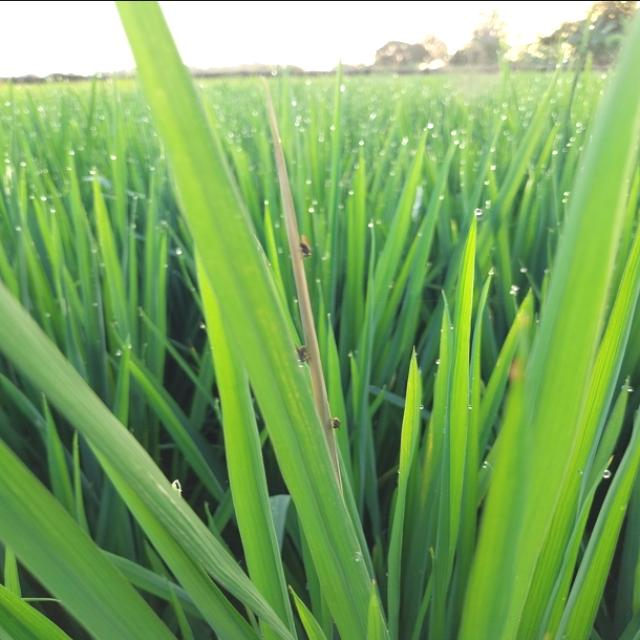Wereng: (282, 339, 346, 446), (282, 222, 320, 278)
